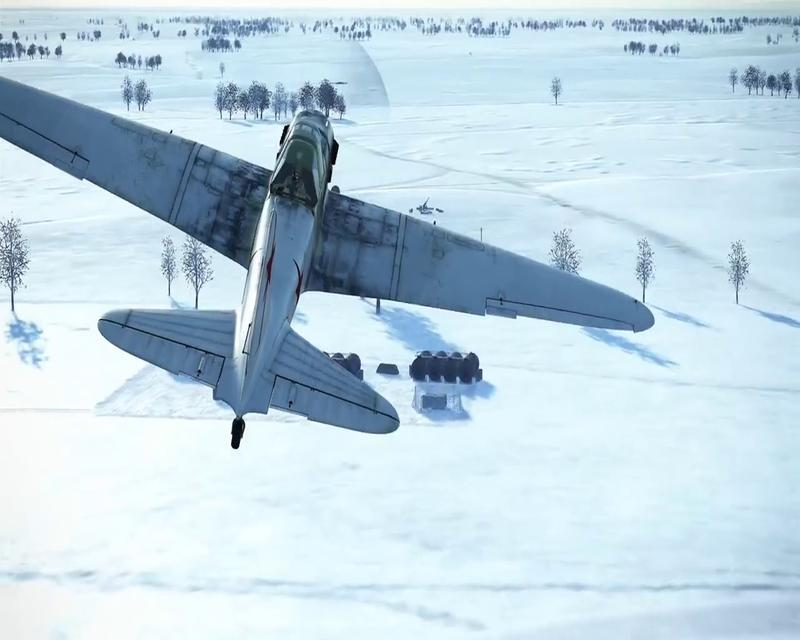UAV: (0, 75, 656, 450)
